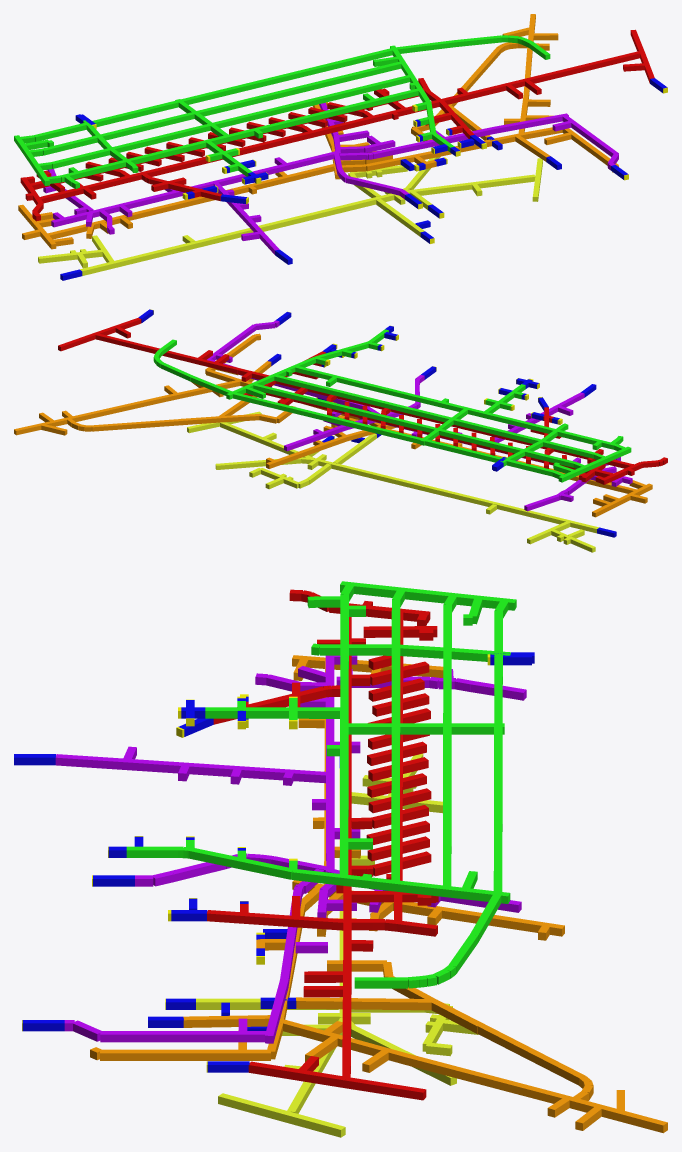
File: FINAL_SIMULADO_repacked.glb
The picture shows the model from 3 angles, top to bottom: view 1: azimuth 30°, elevation 25°; view 2: azimuth 150°, elevation 25°; view 3: azimuth 270°, elevation 25°; orthographic projection. The views are drawn at different scales.
Visible parts, largest first — view 1: world; view 2: world; view 3: world.
Boxes of the visible parts, <box> form: world: <box>14,14,667,280</box>; world: <box>14,309,667,552</box>; world: <box>14,581,667,1137</box>.
Bounding box in the file's own units: 695 × 107 × 382.
Materials: 1 (1 with a texture image).
